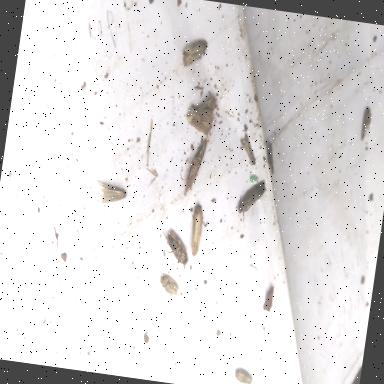pbw: (182, 136, 208, 200), (157, 226, 193, 270), (234, 176, 266, 225), (187, 205, 206, 257), (184, 106, 214, 136), (180, 37, 207, 70), (157, 272, 183, 304), (236, 132, 258, 166), (94, 186, 126, 206), (358, 106, 374, 144), (232, 368, 254, 384), (204, 96, 218, 110)
